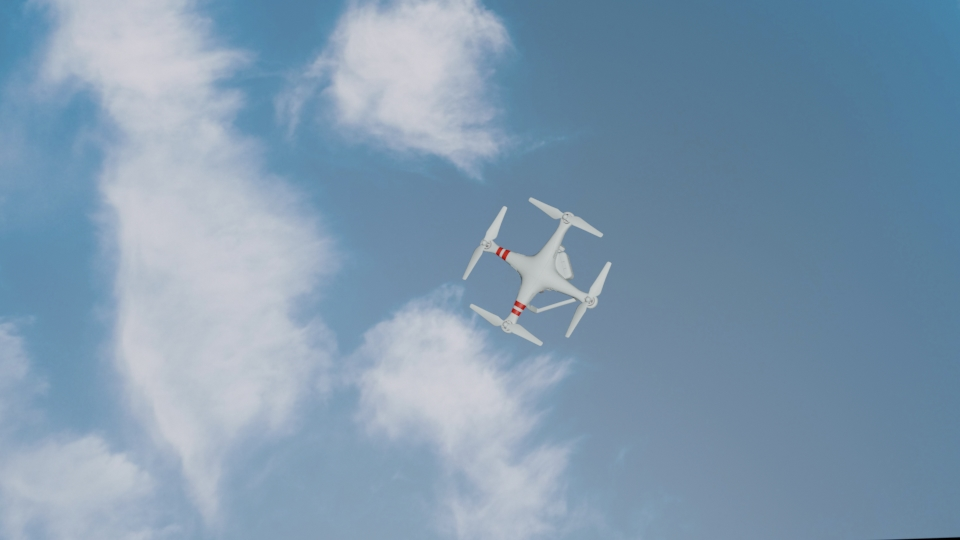drone: (463, 197, 612, 343)
